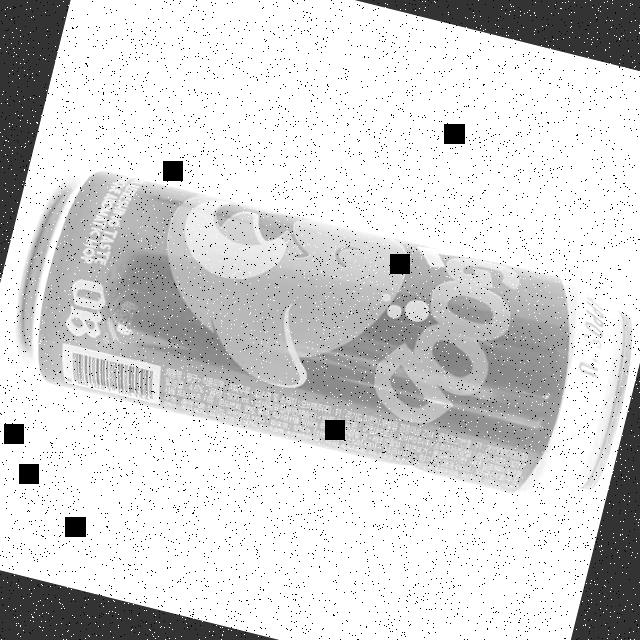can: (4, 149, 640, 519)
